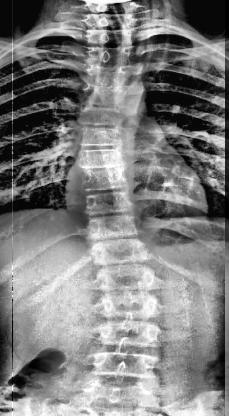Vertebrae: (91, 348, 161, 382), (94, 260, 160, 294), (98, 288, 162, 322), (96, 318, 164, 350), (90, 236, 152, 268), (85, 212, 141, 244), (79, 82, 143, 108), (78, 166, 132, 194), (77, 124, 136, 148), (78, 102, 132, 128), (82, 190, 136, 216), (76, 148, 134, 172), (83, 64, 135, 87), (86, 46, 134, 70), (86, 26, 134, 48)
